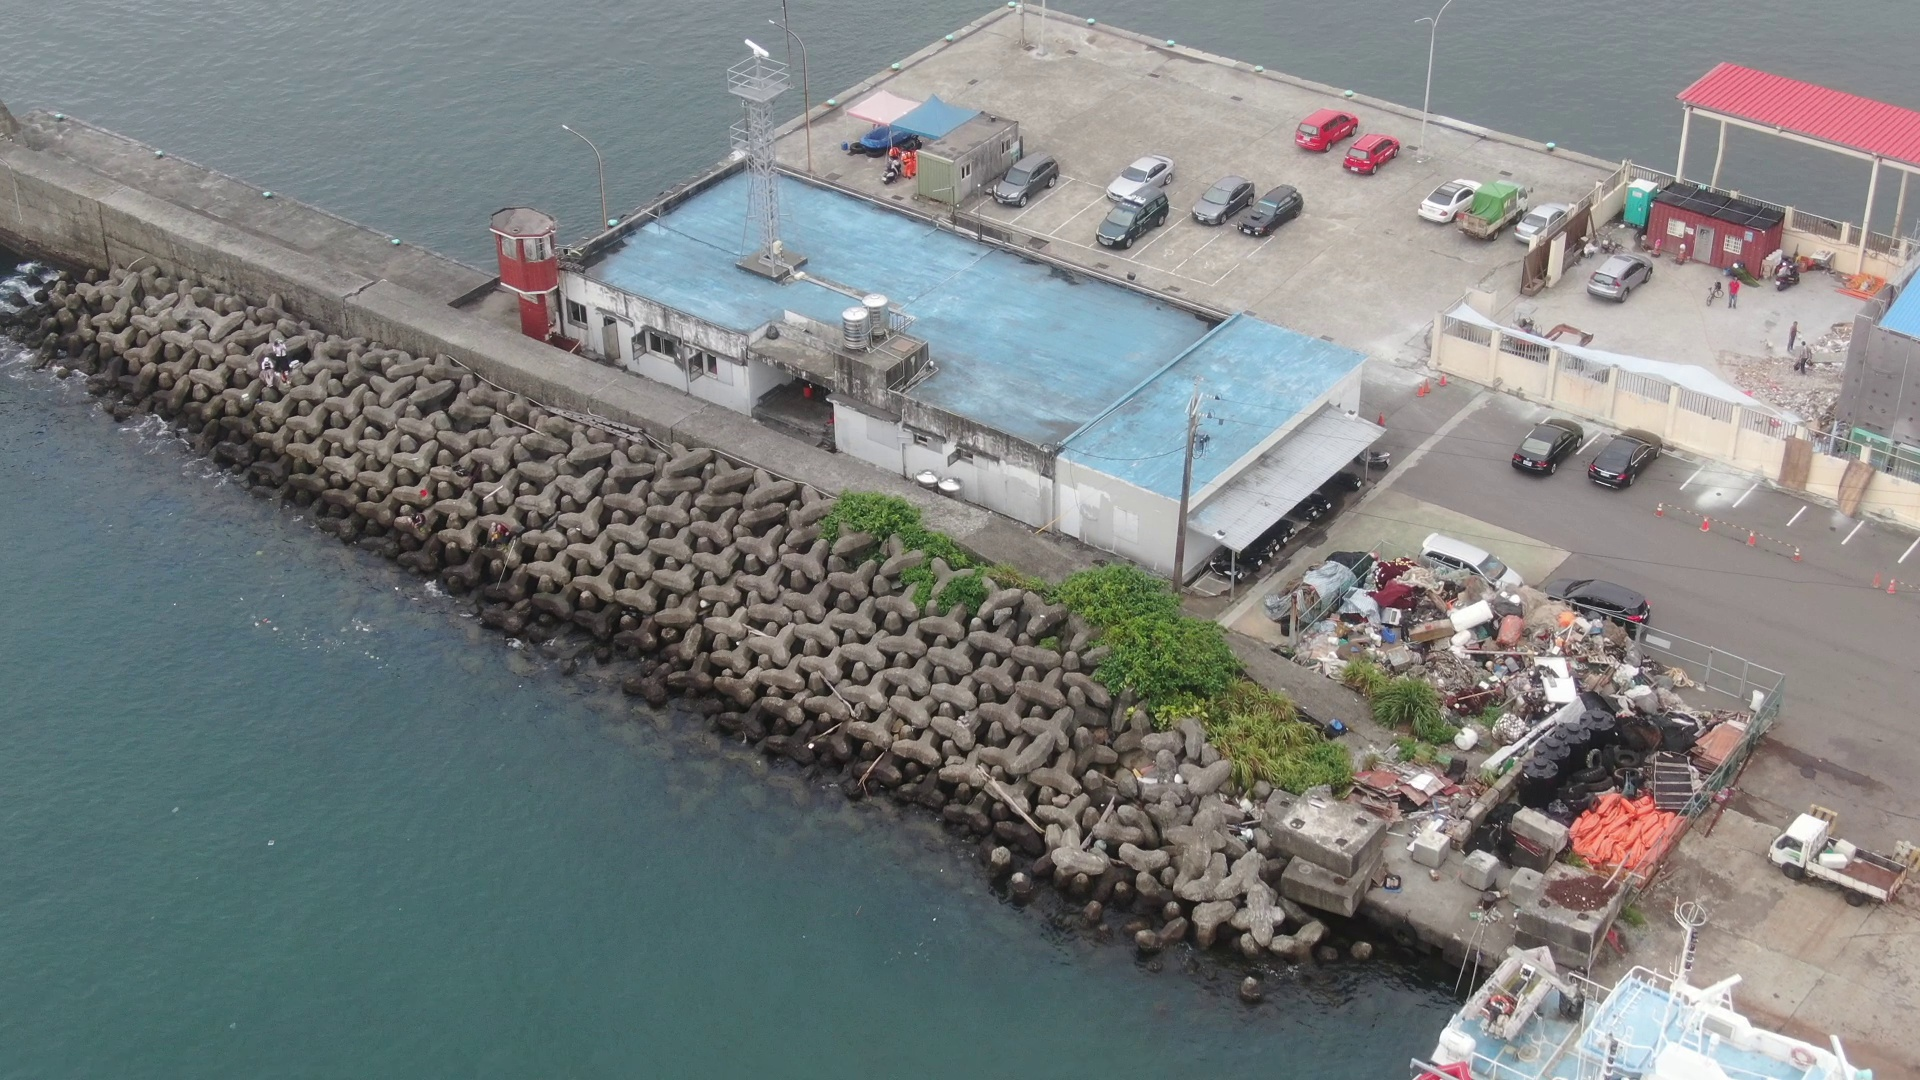garbage: (1338, 560, 1721, 885), (251, 335, 313, 381)
